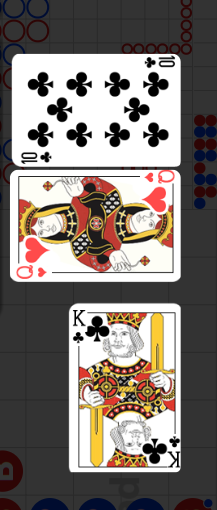10C: (20, 149, 54, 164)
KC: (71, 308, 90, 348), (166, 432, 181, 468)
